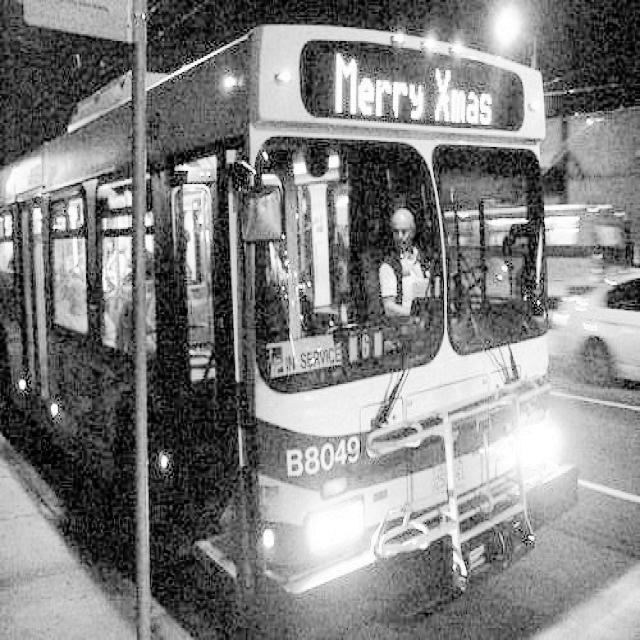Bus: (4, 7, 586, 617)
Car: (550, 262, 640, 409)
